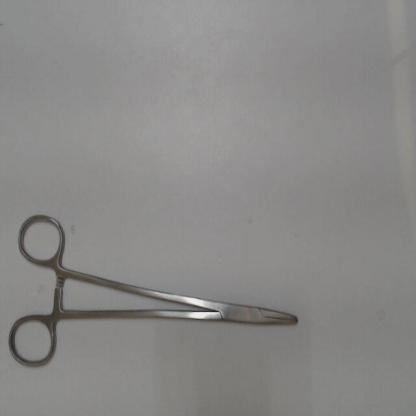8 Mayo Needle Holder: (1, 202, 304, 378)
